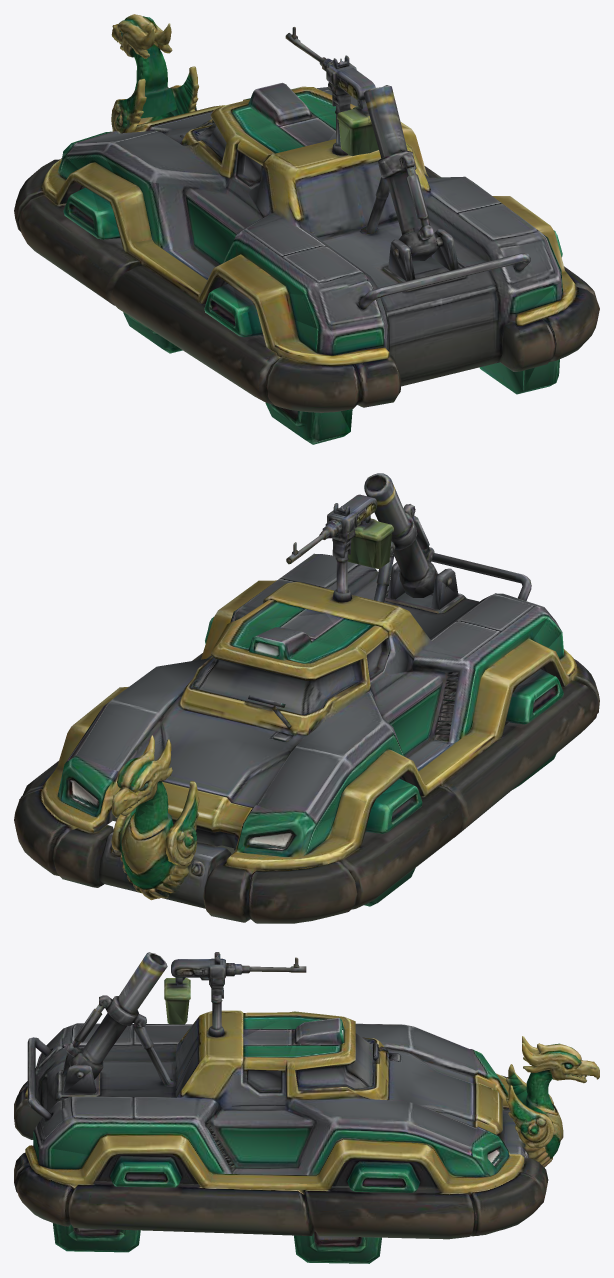
Rendered from jade_mortar.glb.
The picture shows the model from 3 angles, top to bottom: view 1: azimuth 30°, elevation 25°; view 2: azimuth 150°, elevation 25°; view 3: azimuth 270°, elevation 25°; orthographic projection. The views are drawn at different scales.
Parts seen in each view (by area): view 1: Body, Trim, Turret, Barrel; view 2: Body, Trim, Turret, Barrel; view 3: Body, Trim, Turret, Barrel.
Boxes of the visible parts, x1=… form: Body: x1=14, y1=14, x2=599, y2=444; Trim: x1=58, y1=16, x2=562, y2=444; Turret: x1=294, y1=126, x2=508, y2=284; Barrel: x1=333, y1=67, x2=415, y2=174; Body: x1=14, y1=503, x2=599, y2=923; Trim: x1=60, y1=602, x2=563, y2=906; Turret: x1=347, y1=516, x2=515, y2=608; Barrel: x1=339, y1=473, x2=415, y2=567; Body: x1=14, y1=952, x2=599, y2=1262; Trim: x1=33, y1=1016, x2=581, y2=1263; Turret: x1=31, y1=1001, x2=214, y2=1096; Barrel: x1=96, y1=952, x2=214, y2=1023.
Bounding box in the file's own units: 3.85 × 3.19 × 6.5.
Materials: 2 (2 with a texture image).
